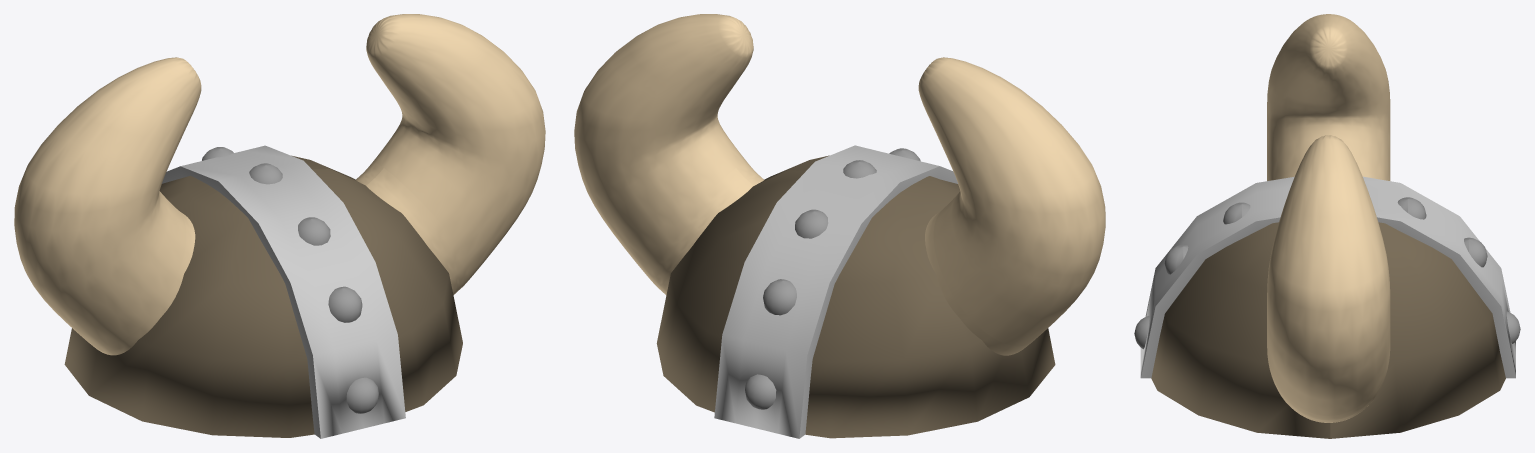
The model's file is Low_Poly_Viking_Hat.glb.
3 views of the same model, side by side, from view 1: azimuth 30°, elevation 25°; view 2: azimuth 150°, elevation 25°; view 3: azimuth 270°, elevation 25° (orthographic). The views are drawn at different scales.
Parts seen in each view (by area): view 1: unnamed (×8); view 2: unnamed (×7); view 3: unnamed (×8).
Part boxes in pixels (x1,y1,x2,y2): unnamed (×8): (14,14,545,438); unnamed (×7): (574,14,1105,438); unnamed (×8): (1140,14,1515,438).
Bounding box in the file's own units: 186 × 109 × 131.
